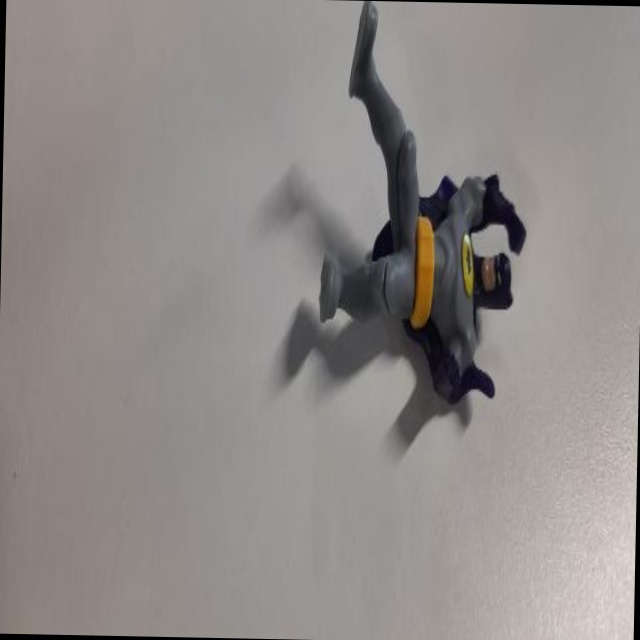Batman: (309, 2, 530, 423)
